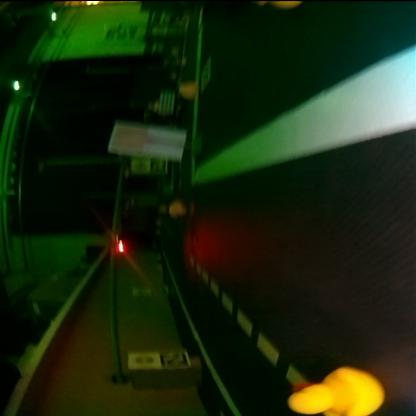Duckie: (288, 368, 386, 415), (178, 82, 196, 98), (168, 202, 186, 218)
QR code: (160, 353, 188, 368), (202, 57, 210, 93)
Signal sign: (128, 353, 158, 366)
